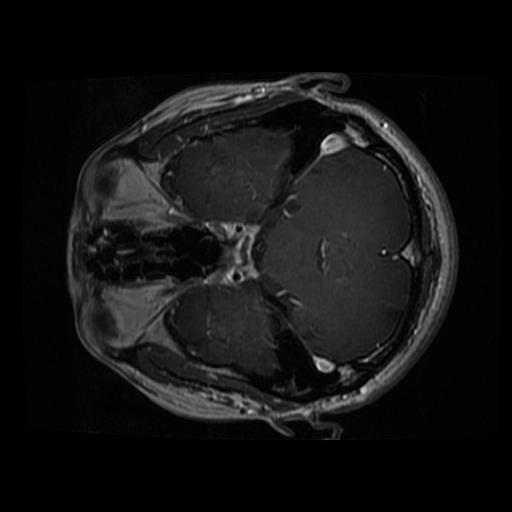glioma: (279, 194, 302, 216)
